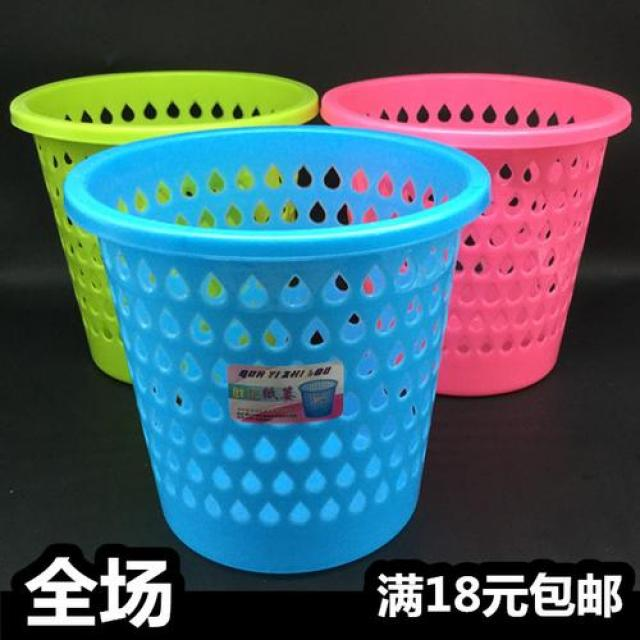dustbin: (62, 123, 496, 580), (323, 70, 634, 399), (10, 68, 320, 387)
